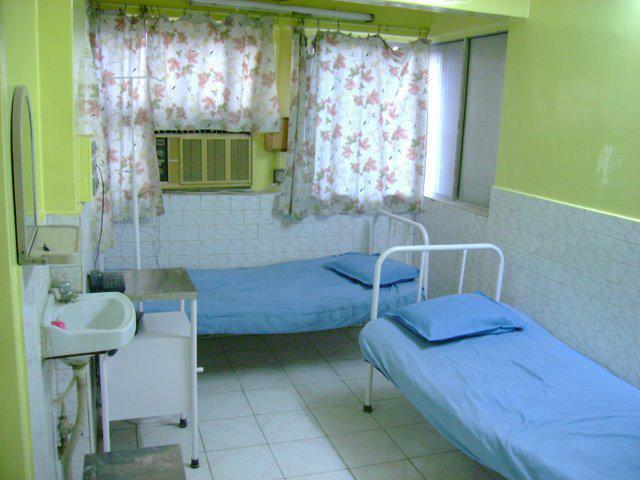Cama: (371, 242, 637, 479), (133, 219, 421, 340)
Lavamanos: (41, 297, 134, 473)
Ventana: (304, 33, 415, 204), (422, 34, 502, 216)
